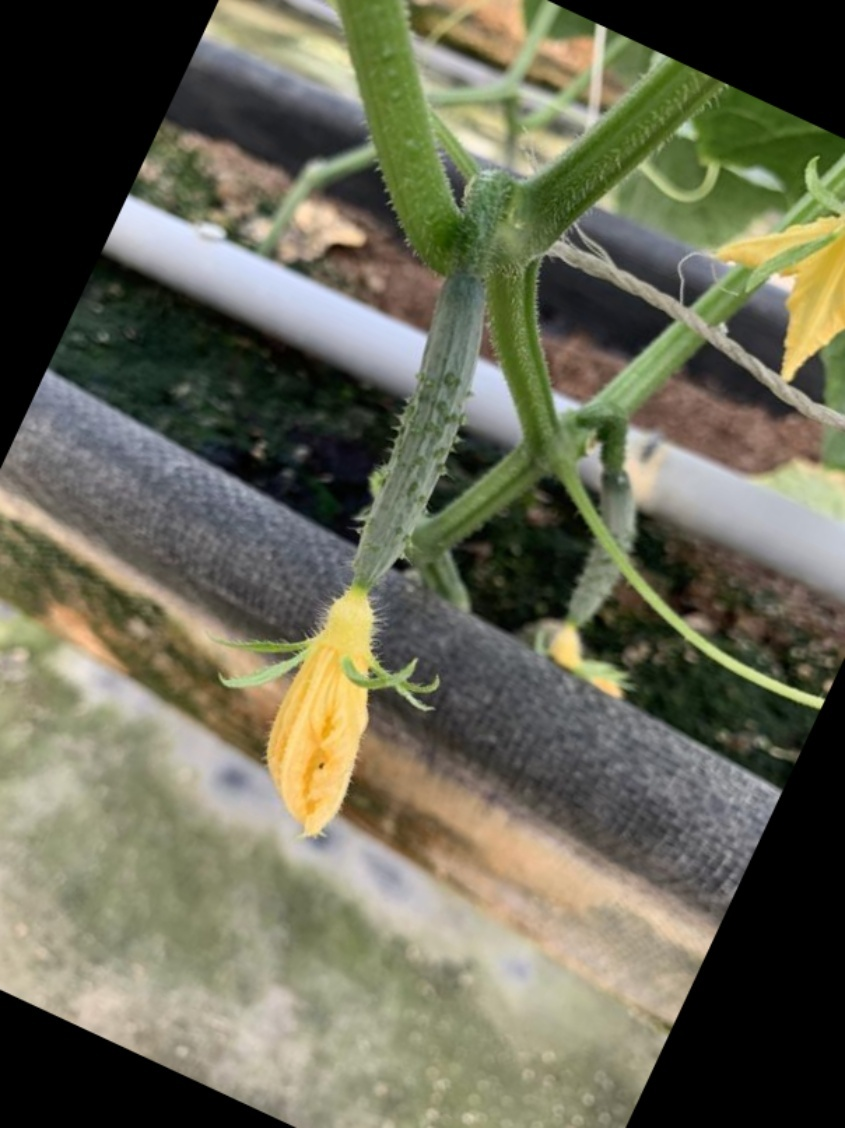bear: (227, 272, 503, 825)
